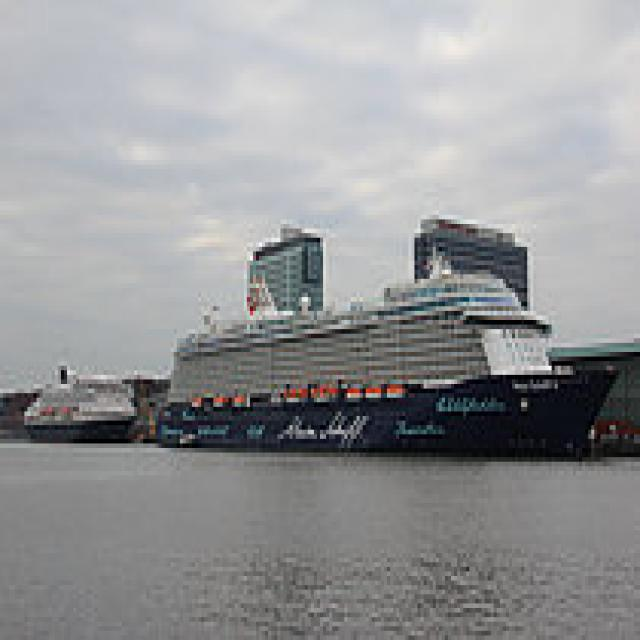Ship: (157, 252, 620, 472)
